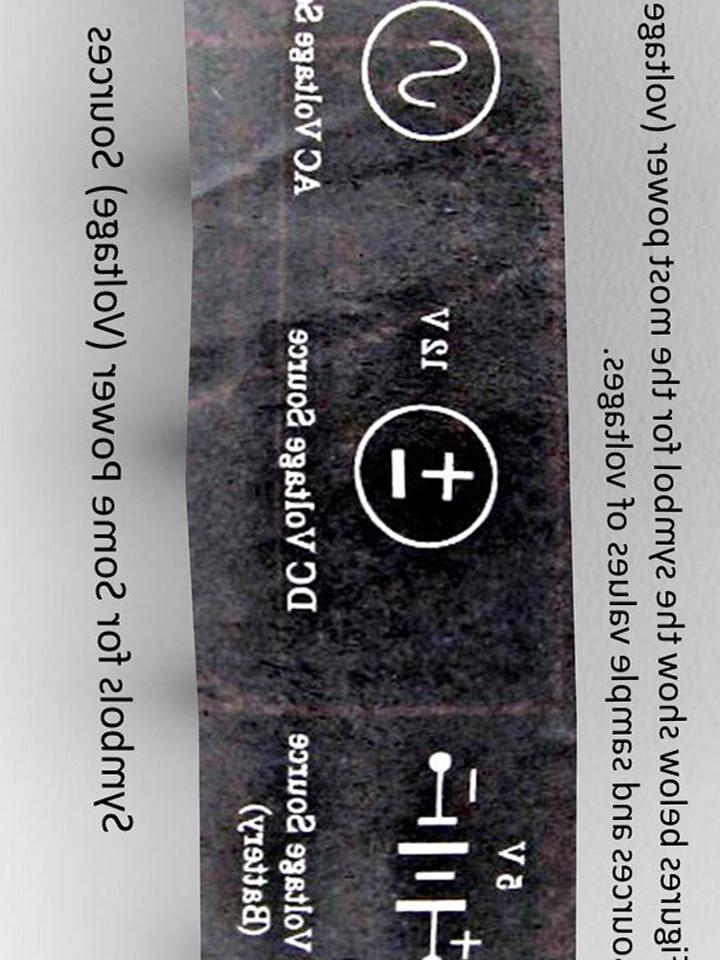Battery: (320, 377, 528, 590)
